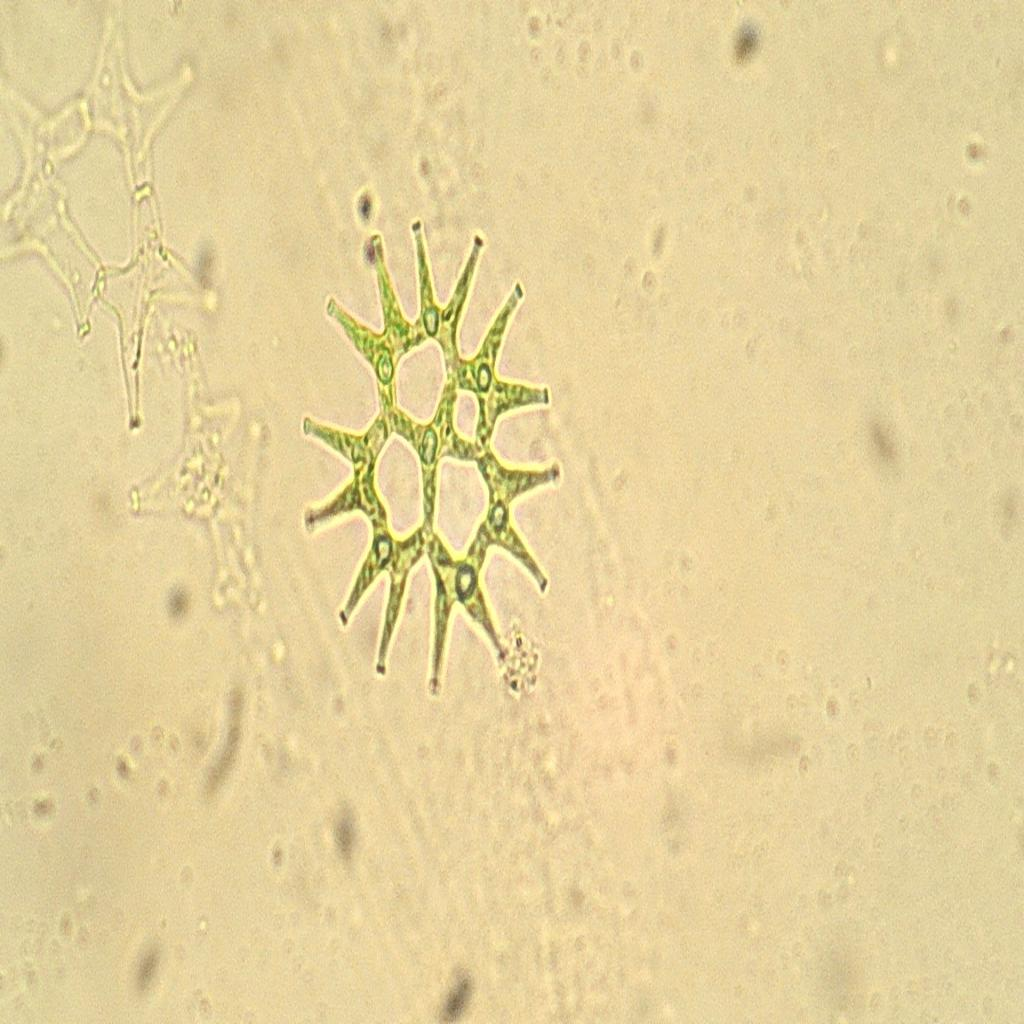Pediastrum_CTH: (288, 191, 586, 706)
